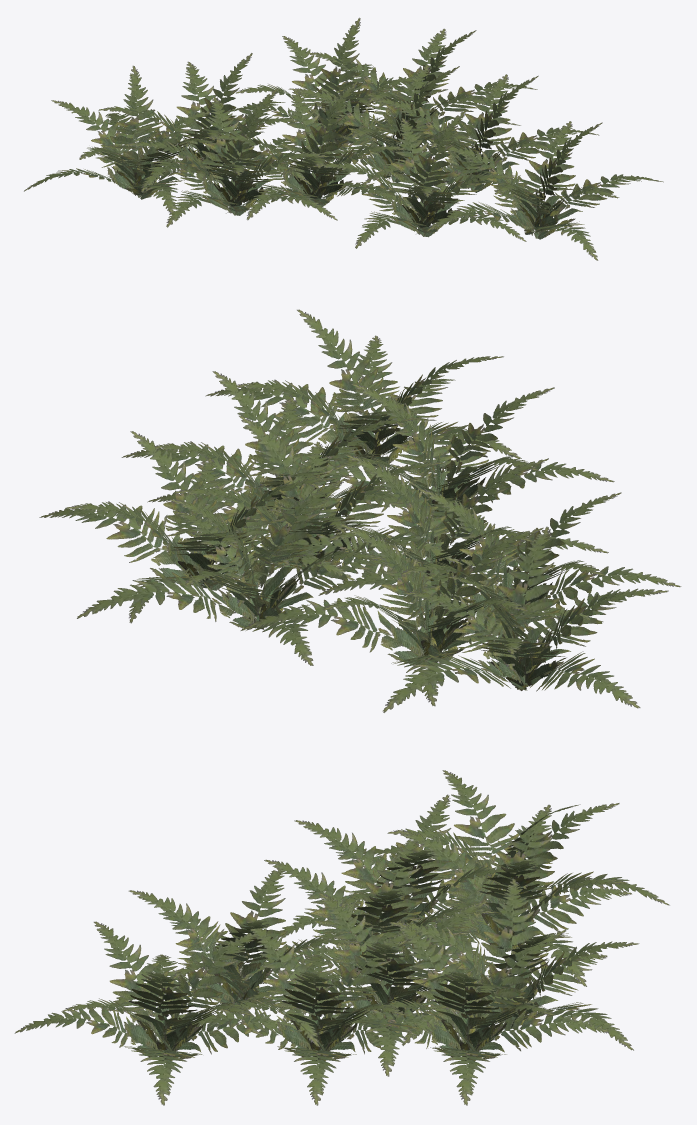
File: fern-grass.lod0.glb
The picture shows the model from 3 angles, top to bottom: view 1: azimuth 30°, elevation 25°; view 2: azimuth 150°, elevation 25°; view 3: azimuth 270°, elevation 25°; orthographic projection. The views are drawn at different scales.
Visible parts, largest first — view 1: Object_2; view 2: Object_2; view 3: Object_2.
Boxes of the visible parts, x1,y1,x2,y2 form: Object_2: (24,17,663,260); Object_2: (39,309,681,712); Object_2: (14,770,669,1105).
Size of the model in its own units: 3.63 by 0.8 by 3.57.
Materials: 1 (1 with a texture image).
